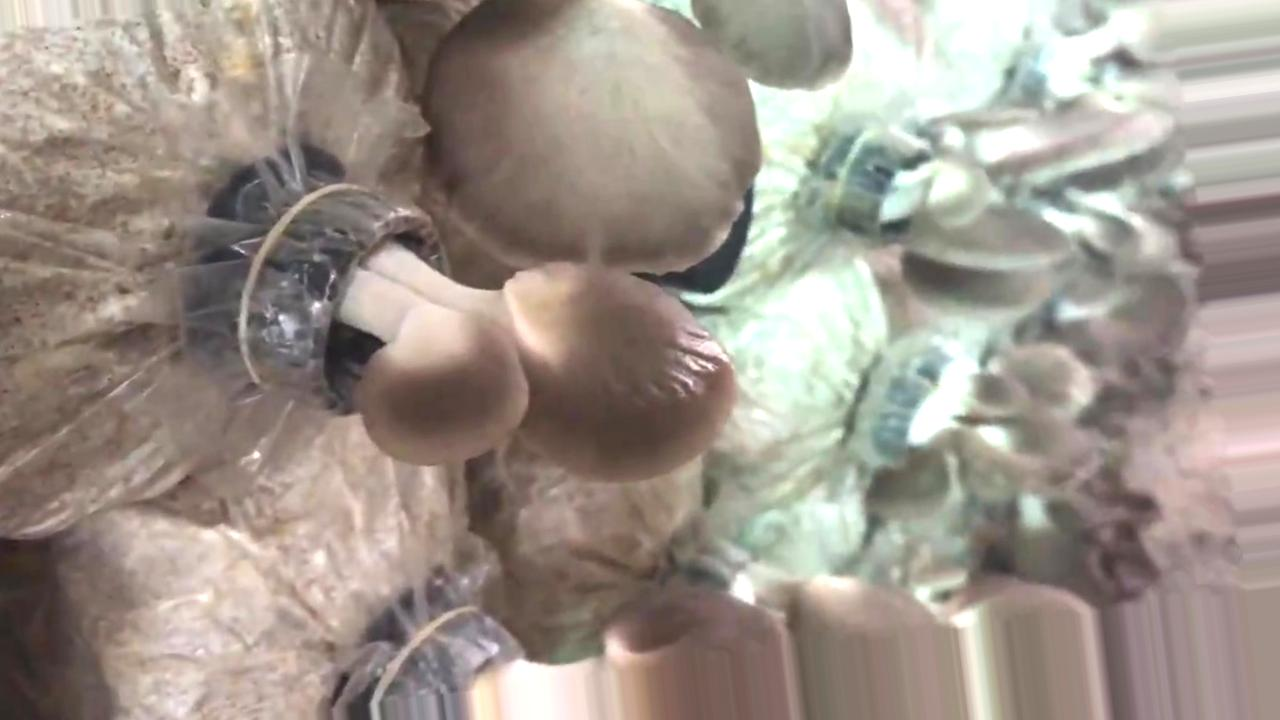nam: (231, 170, 738, 487), (337, 559, 1111, 720), (416, 1, 853, 278), (817, 100, 1155, 314), (809, 350, 1127, 521)
